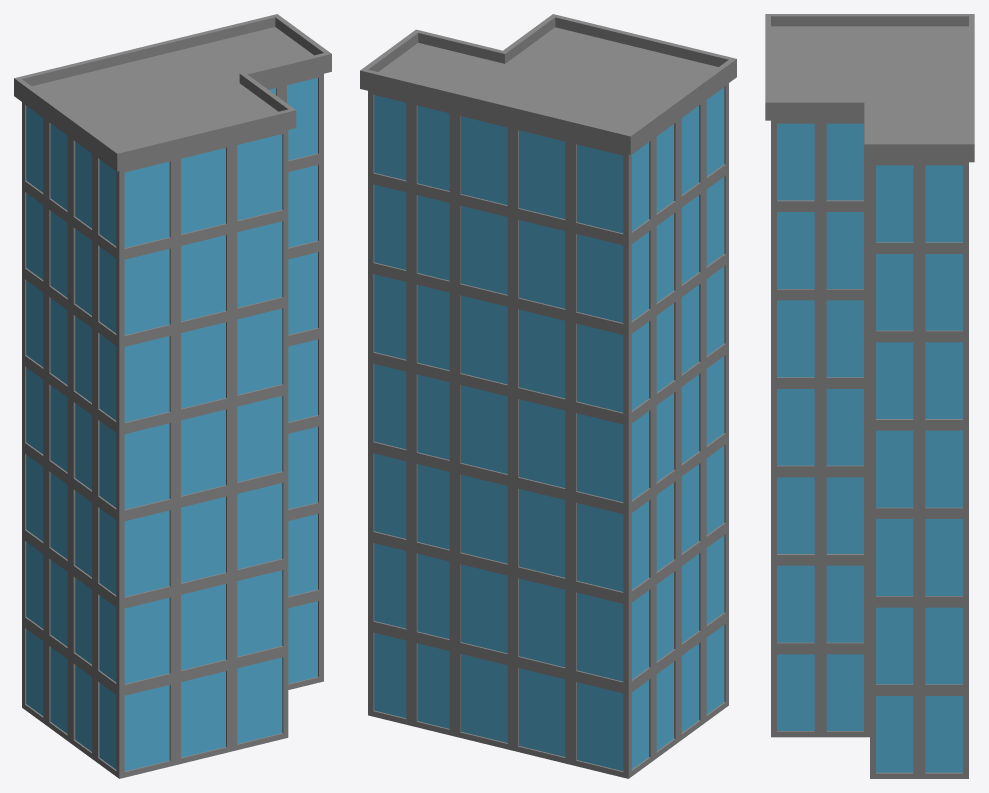
Rendered from LBuilding.fbx.
3 views of the same model, side by side, from view 1: azimuth 30°, elevation 25°; view 2: azimuth 150°, elevation 25°; view 3: azimuth 270°, elevation 25° (orthographic). The views are drawn at different scales.
Parts seen in each view (by area): view 1: Cube.001, Cube; view 2: Cube.001, Cube; view 3: Cube.001, Cube.
Part boxes in pixels (x1,y1,x2,y2): Cube.001: [26, 78, 317, 771]; Cube: [14, 14, 331, 778]; Cube.001: [374, 87, 724, 770]; Cube: [360, 14, 736, 778]; Cube.001: [777, 123, 962, 772]; Cube: [765, 14, 974, 778].
Bounding box in the file's own units: 312 × 711 × 212.
